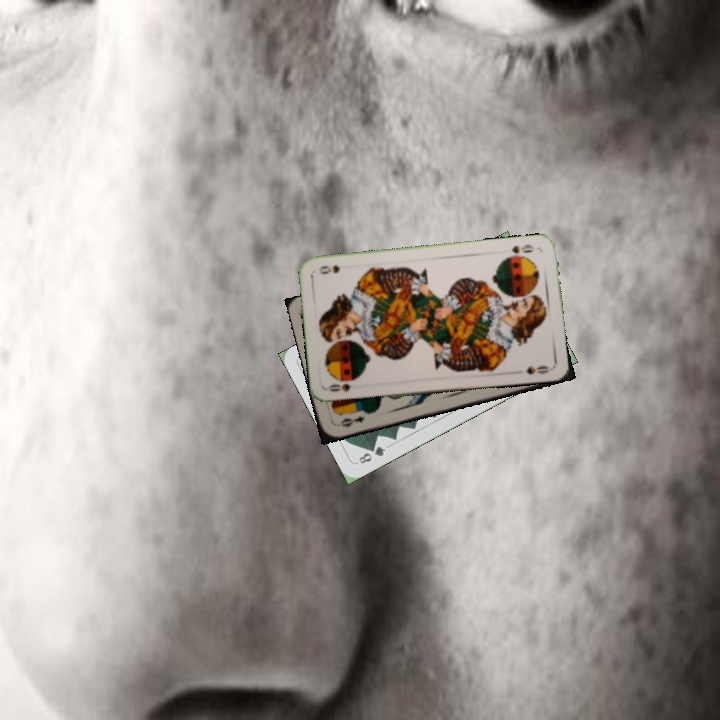EO: (337, 412, 367, 430)
G8: (354, 442, 388, 466)
SO: (501, 240, 538, 260), (325, 380, 353, 395)
